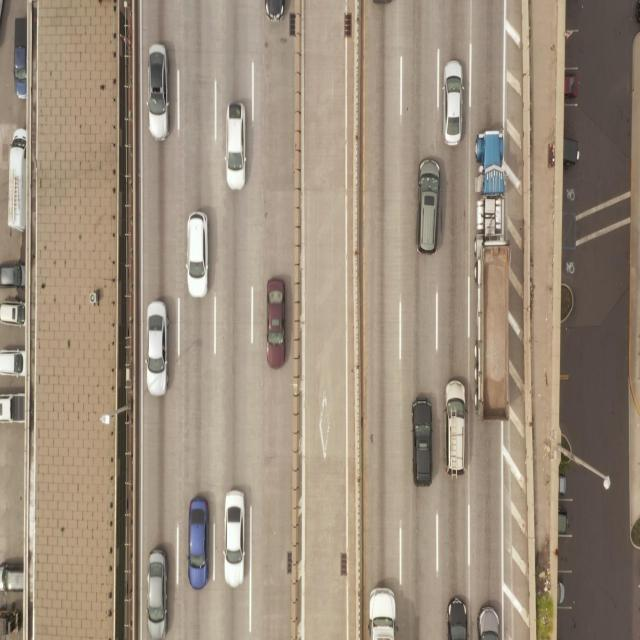Car: (220, 484, 248, 589), (410, 390, 436, 496), (184, 207, 212, 299), (417, 154, 442, 256), (444, 373, 468, 479), (184, 492, 209, 590), (144, 539, 168, 640), (146, 290, 168, 400), (264, 275, 289, 370)
